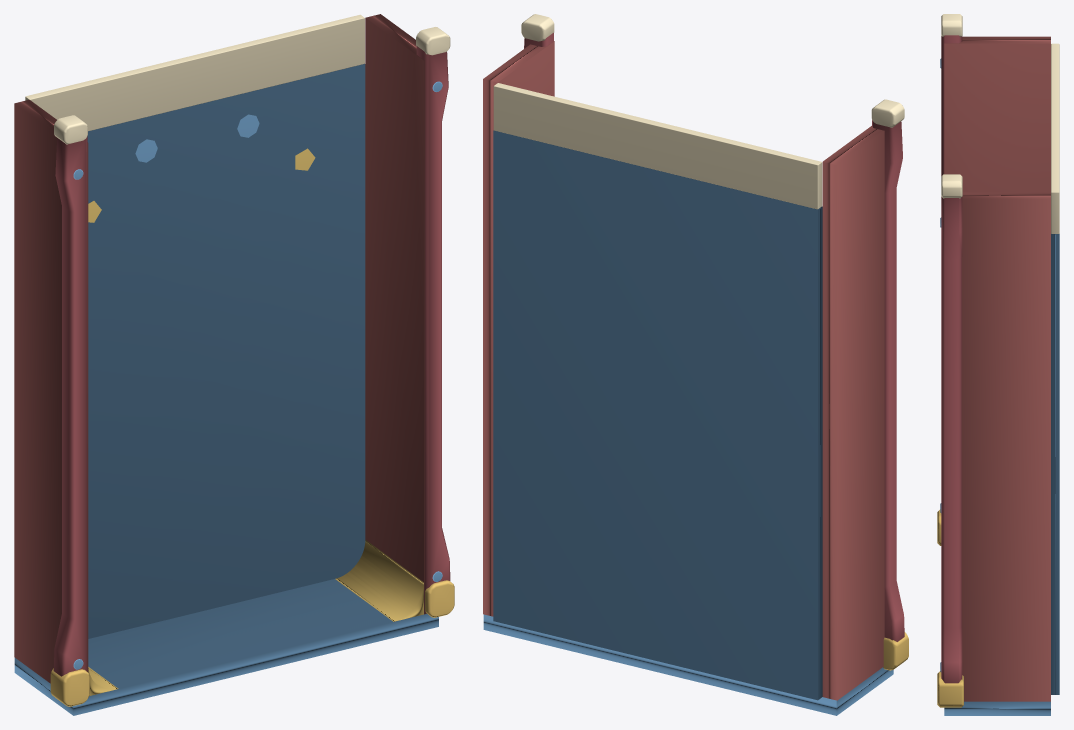
Rendered from container_toybox.glb.
The picture shows the model from 3 angles, left to right: view 1: azimuth 30°, elevation 25°; view 2: azimuth 150°, elevation 25°; view 3: azimuth 270°, elevation 25°; orthographic projection. The views are drawn at different scales.
Visible parts, largest first — view 1: Back liner, Flat inner wall.001, Flat inner wall, Continuous floor, Outer corner moulding, Outer corner moulding.001; view 2: Back liner, Flat inner wall, Outer corner moulding, Flat inner wall.001, Continuous floor, Outer corner moulding.001; view 3: Flat inner wall.001, Flat inner wall, Outer corner moulding.001, Back liner, Continuous floor, Outer corner moulding.
Part boxes in pixels (bbox=[...]): Back liner: bbox=[25, 14, 365, 638]; Flat inner wall.001: bbox=[335, 14, 426, 621]; Flat inner wall: bbox=[14, 99, 118, 695]; Continuous floor: bbox=[14, 579, 438, 715]; Outer corner moulding: bbox=[50, 115, 89, 706]; Outer corner moulding.001: bbox=[416, 27, 454, 617]; Back liner: bbox=[493, 83, 822, 700]; Flat inner wall: bbox=[822, 126, 884, 700]; Outer corner moulding: bbox=[871, 99, 908, 670]; Flat inner wall.001: bbox=[483, 41, 554, 616]; Continuous floor: bbox=[483, 614, 893, 715]; Outer corner moulding.001: bbox=[521, 14, 554, 48]; Flat inner wall.001: bbox=[962, 192, 1050, 701]; Flat inner wall: bbox=[944, 36, 1050, 192]; Outer corner moulding.001: bbox=[937, 174, 963, 707]; Back liner: bbox=[1051, 43, 1059, 694]; Continuous floor: bbox=[944, 701, 1050, 715]; Outer corner moulding: bbox=[937, 14, 962, 545].
Size of the model in its own units: 7.71 by 11.12 by 2.29.
